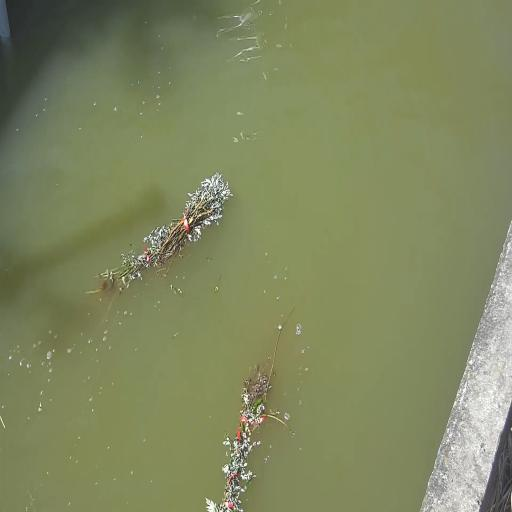twig: (206, 280, 311, 511), (88, 173, 232, 293)
